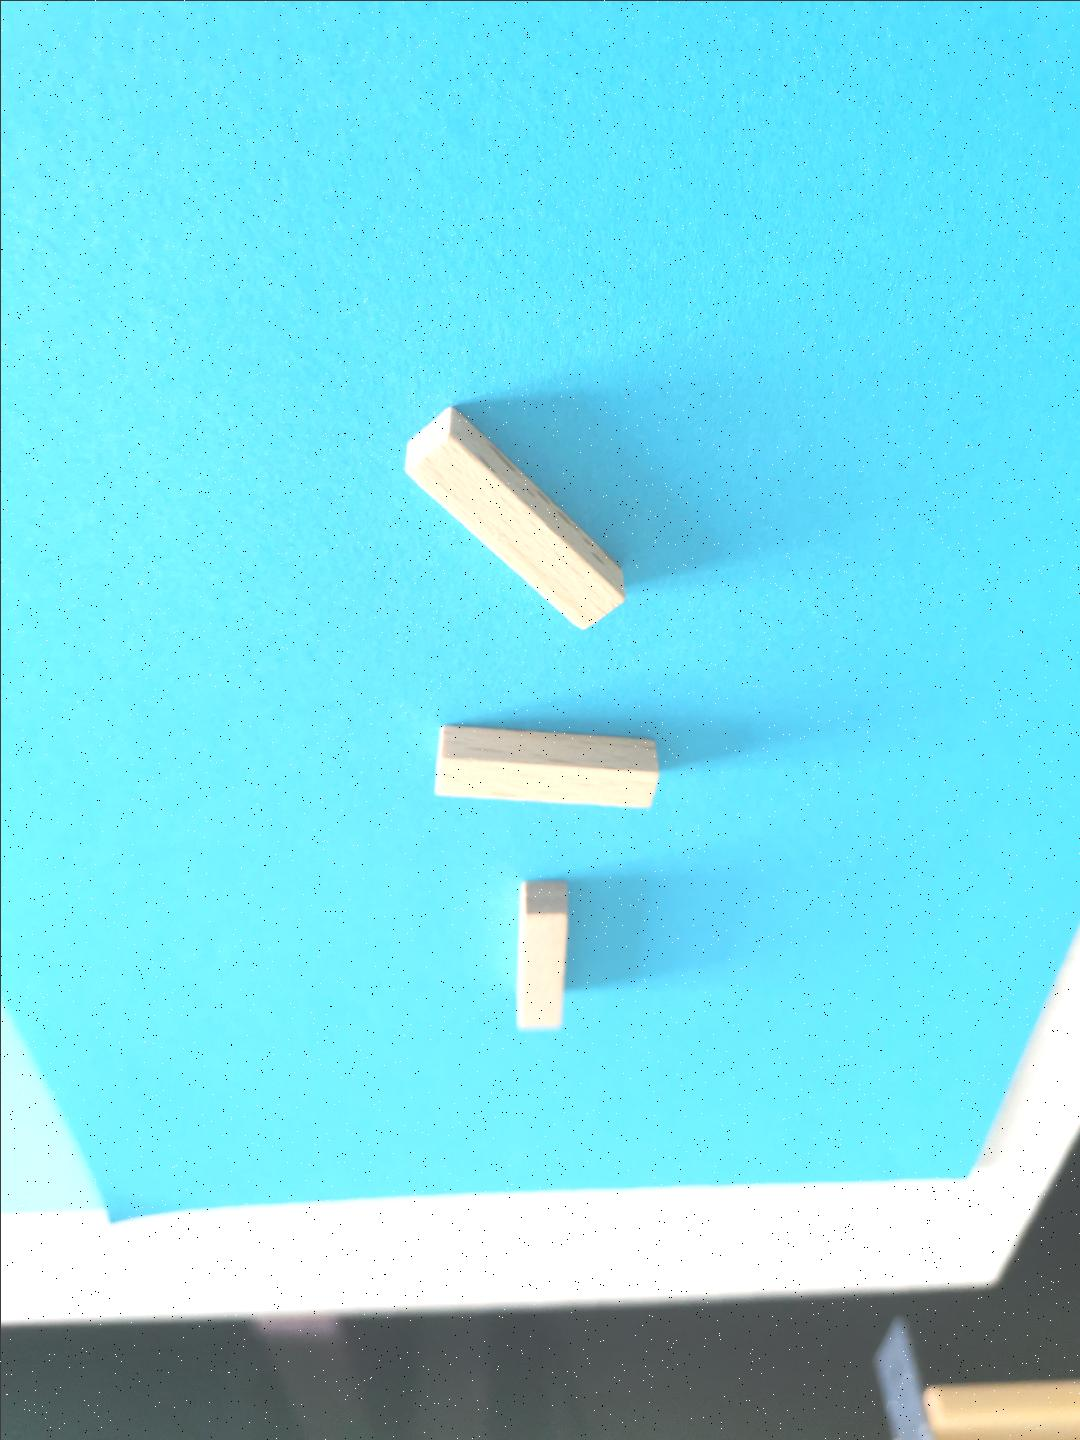jenga: (405, 408, 624, 627), (433, 726, 658, 807), (517, 880, 565, 1030)
